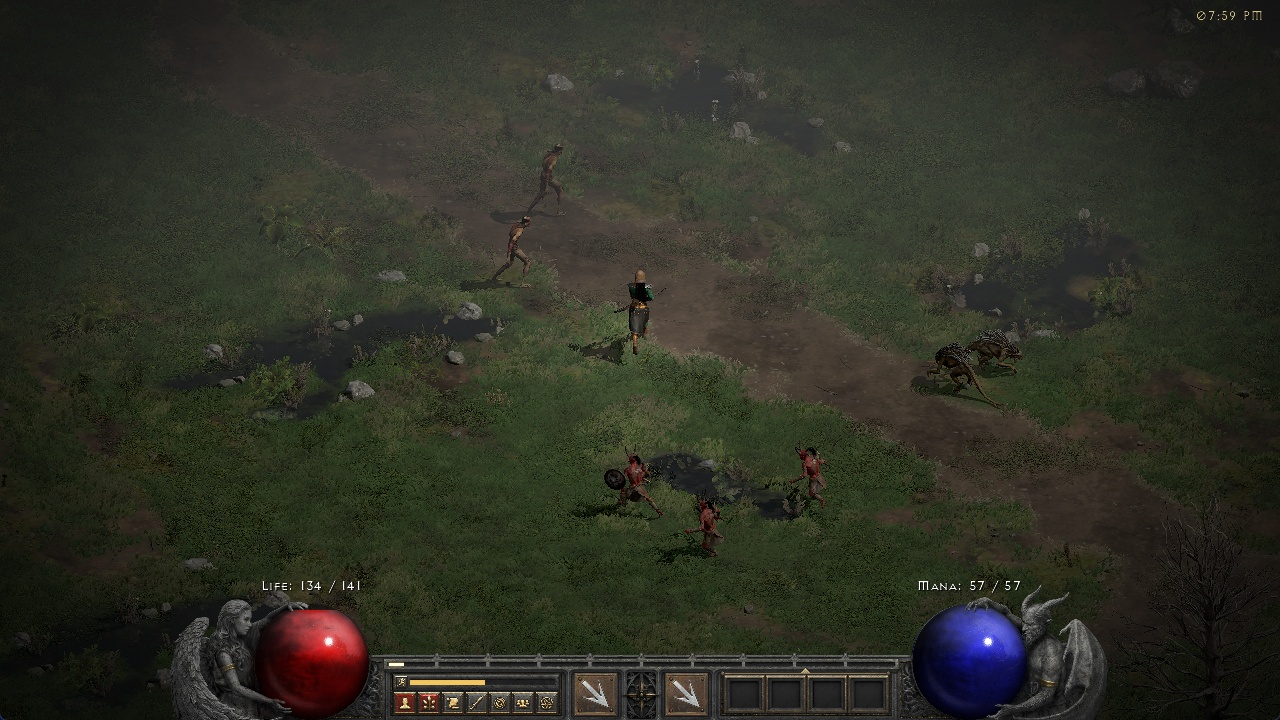fallen: (604, 445, 662, 516), (681, 492, 726, 558), (787, 444, 832, 508)
